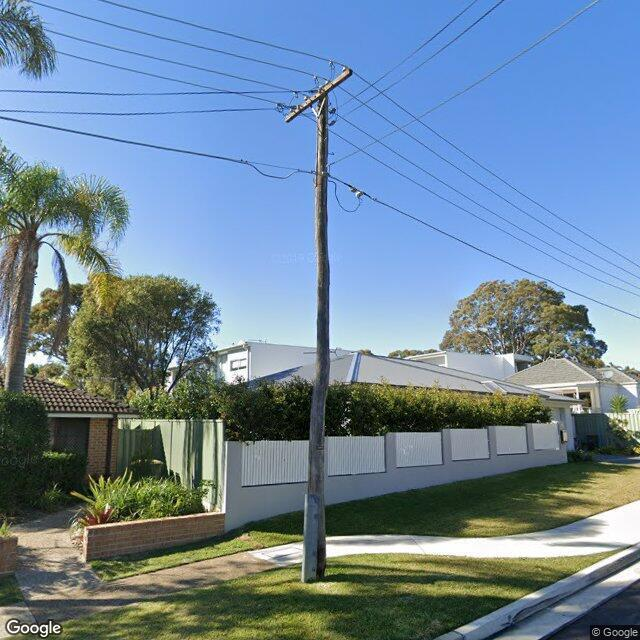crossarm: (282, 68, 354, 126)
timber-pole: (307, 91, 329, 581)
